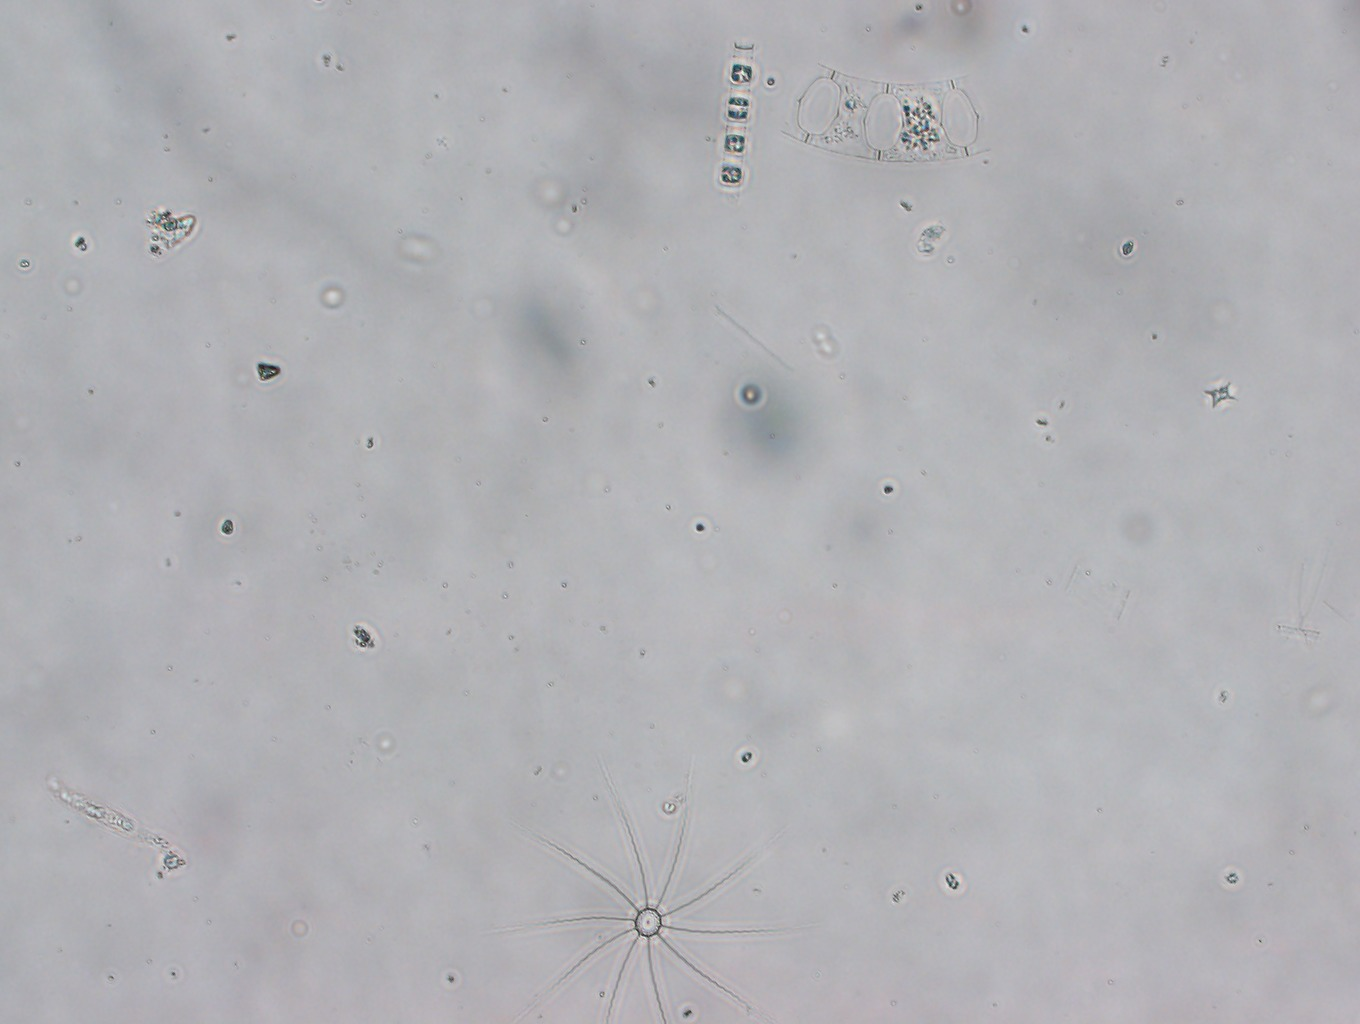bacteriastrum: (517, 758, 788, 1024)
eucampia: (783, 61, 991, 163)
skeletonema: (719, 40, 755, 189)
